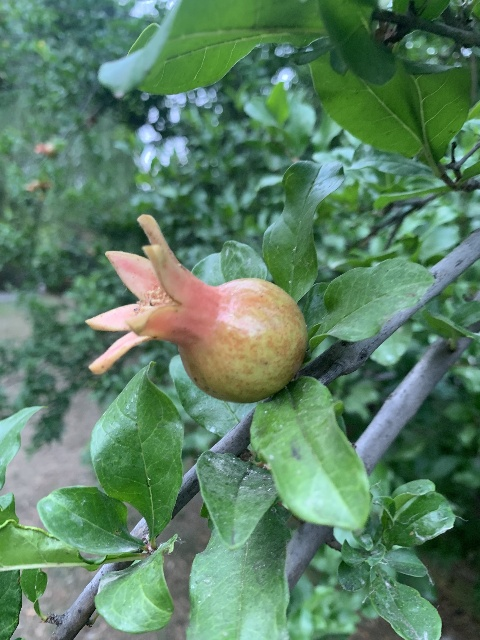early-fruit: (85, 213, 307, 403)
